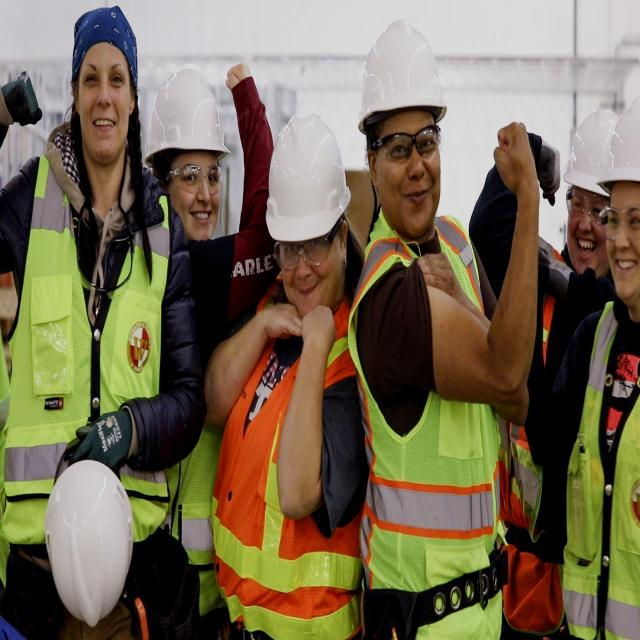face_nomask: (377, 101, 446, 224), (74, 41, 130, 166), (276, 225, 343, 324), (170, 139, 222, 254), (605, 183, 640, 304), (568, 198, 606, 280)
glasses: (380, 121, 443, 165), (270, 232, 330, 272), (169, 159, 225, 198), (597, 205, 640, 241), (565, 189, 608, 224)
hand_glove: (68, 408, 138, 483), (0, 69, 42, 151)
hand_noglove: (487, 123, 537, 217), (219, 52, 263, 129), (256, 290, 306, 352), (296, 307, 346, 356)
head_helmet: (357, 6, 450, 134), (263, 112, 351, 240), (144, 70, 232, 165), (581, 96, 640, 190), (564, 98, 622, 192)
person: (336, 0, 538, 640), (0, 7, 197, 640), (220, 106, 368, 640), (538, 82, 640, 639)
vest: (350, 213, 508, 640), (16, 165, 165, 544), (217, 261, 366, 640), (565, 307, 640, 640), (502, 305, 576, 638)
